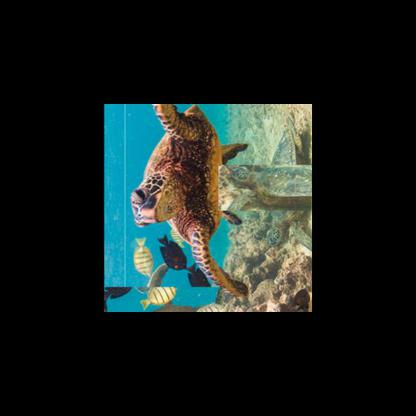turtle: (124, 103, 250, 297), (242, 140, 310, 234), (110, 272, 212, 310)
